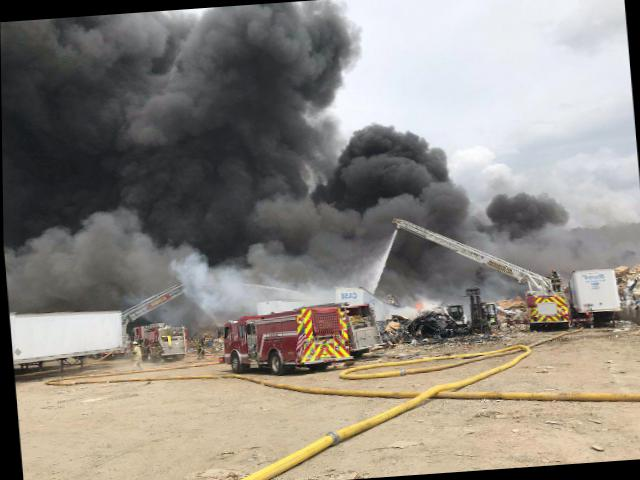smoke: (0, 5, 374, 301), (4, 104, 314, 248), (158, 0, 362, 114), (0, 10, 165, 121), (177, 229, 387, 314), (314, 129, 442, 235), (4, 240, 179, 311), (472, 191, 578, 239), (437, 147, 528, 192), (441, 194, 471, 236)
